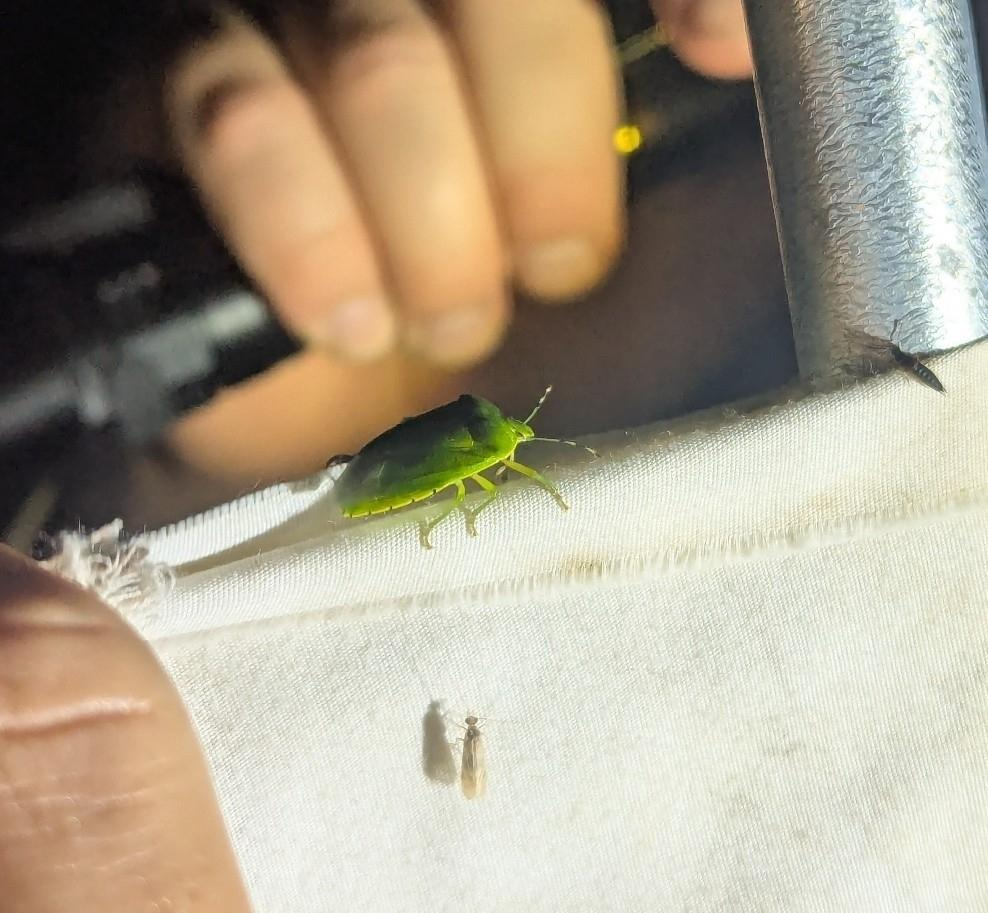stink_bugs: (289, 317, 618, 596)
